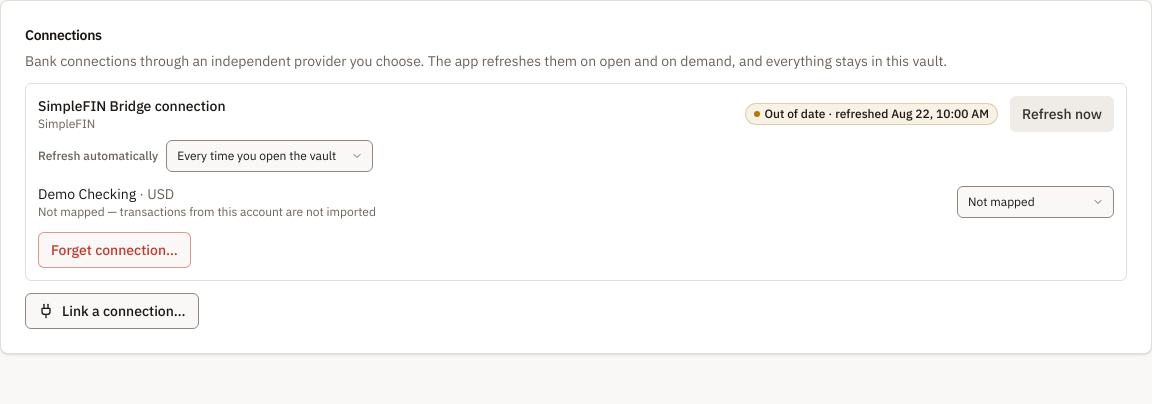
Test case: ConnectionsCard › reads a rate-limited sync as healthy pacing, not an error
The width and height of the screenshot is (1152, 404).
Click the button "Refresh now" at (1062, 114), box left=1010, top=96, right=1114, bottom=132
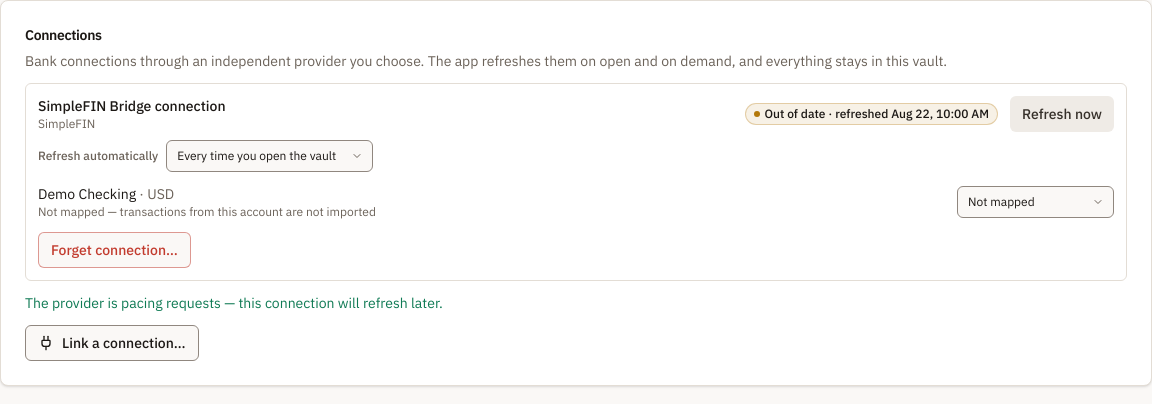
Expected: the message reads "The provider is pacing requests — this connection will refresh later.", left=25, top=294, right=443, bottom=312
